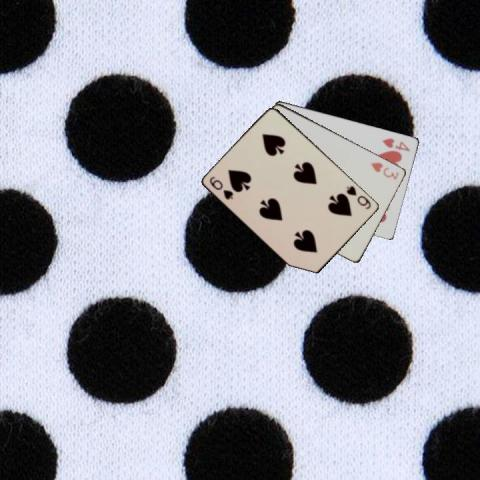3h: (368, 160, 401, 182)
4h: (380, 134, 412, 152)
6s: (343, 182, 373, 210), (207, 173, 235, 201)
